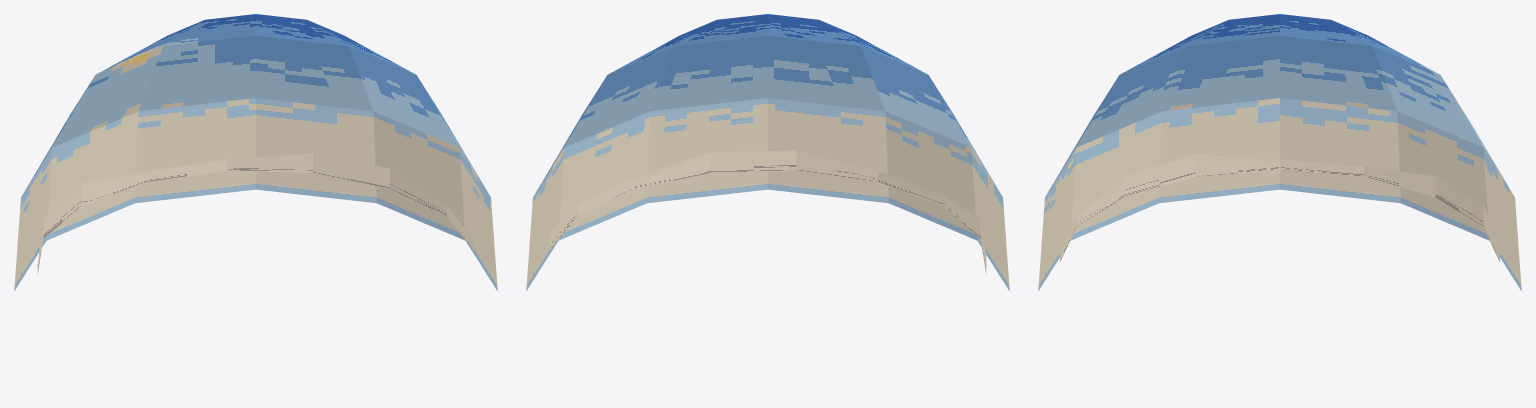
Rendered from land.sky__mesas.glb.
3 renders of one model, left to right at view 1: azimuth 30°, elevation 25°; view 2: azimuth 150°, elevation 25°; view 3: azimuth 270°, elevation 25°, orthographic.
Parts seen in each view (by area): view 1: kit_shell_sky, kit_shell_horizon; view 2: kit_shell_sky, kit_shell_horizon; view 3: kit_shell_sky, kit_shell_horizon.
Part boxes in pixels (x1,y1,x2,y2): kit_shell_sky: (14, 14, 497, 290); kit_shell_horizon: (37, 153, 474, 274); kit_shell_sky: (526, 14, 1009, 290); kit_shell_horizon: (549, 150, 986, 274); kit_shell_sky: (1038, 14, 1521, 290); kit_shell_horizon: (1060, 154, 1499, 261).
Bounding box in the file's own units: 791 × 460 × 791.
Materials: 2 (2 with a texture image).
